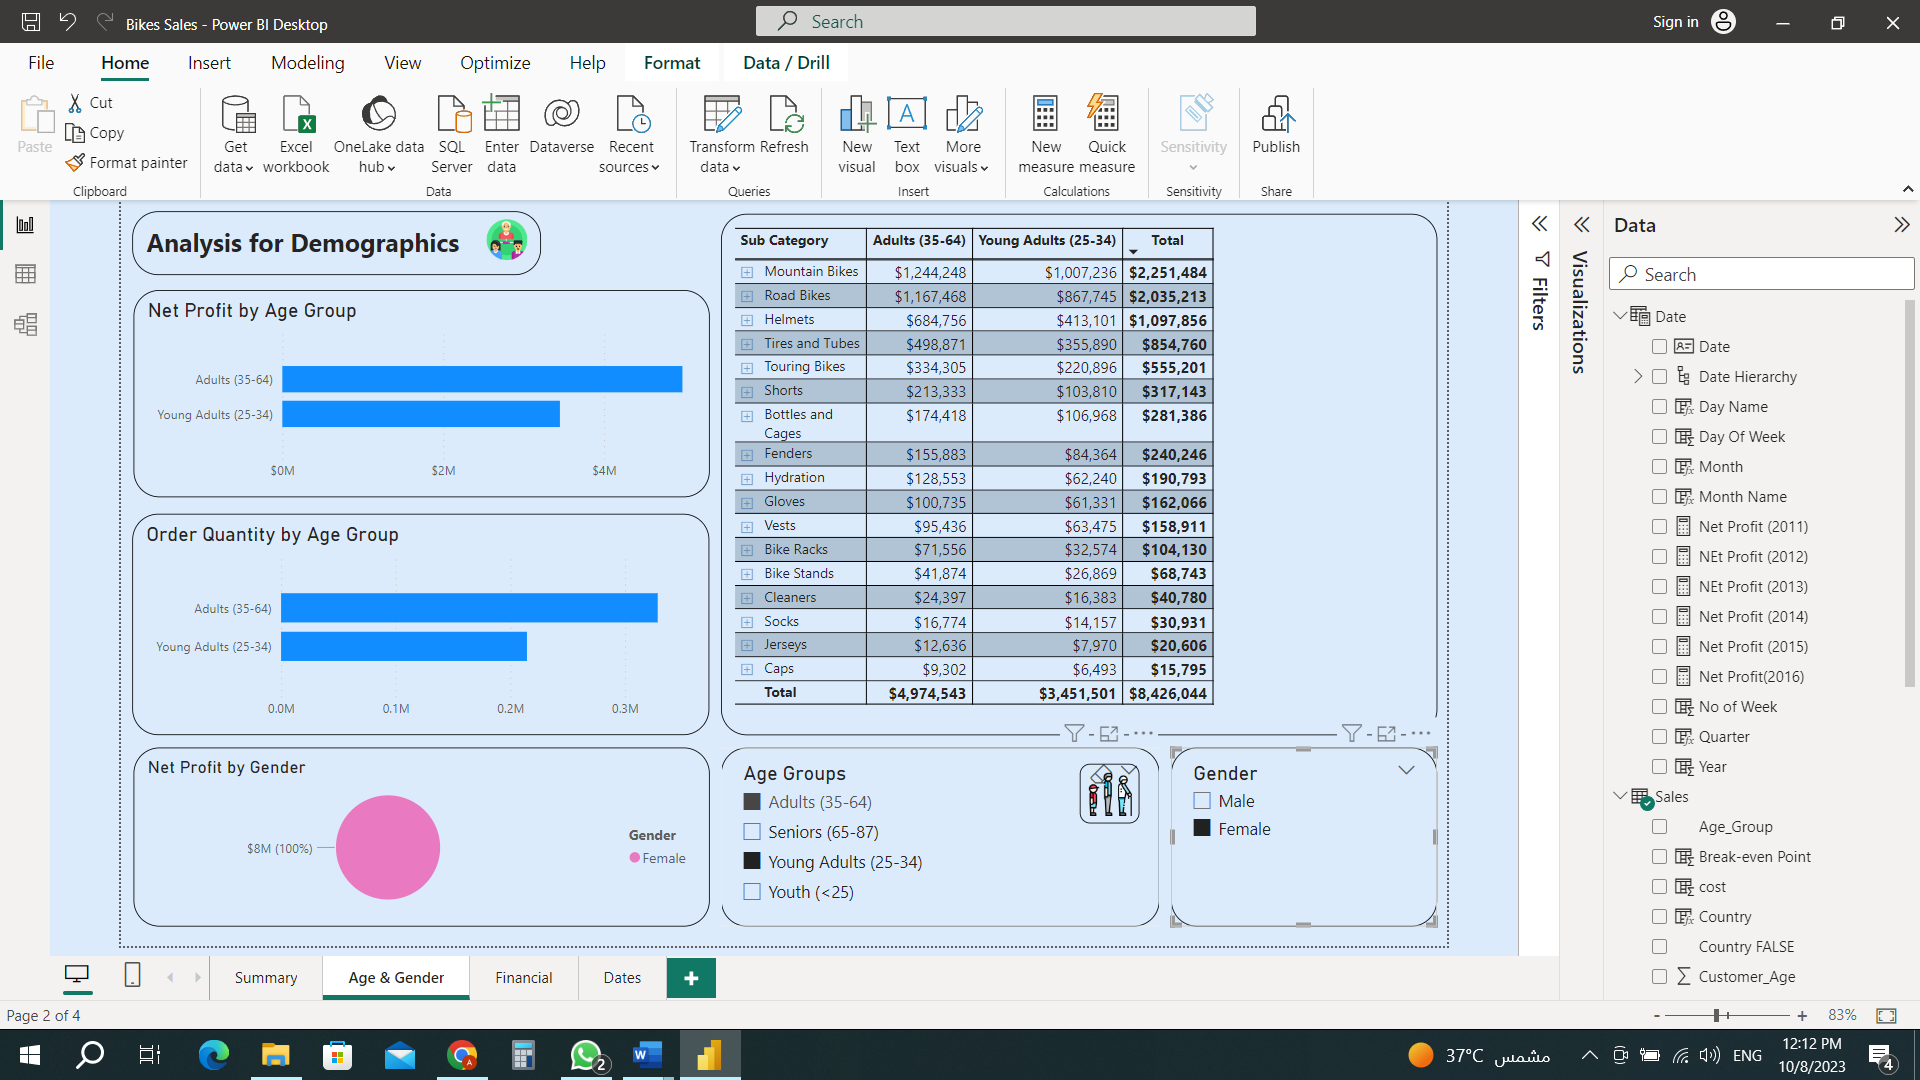

This screenshot's page, from the dashboard's own definition file:
{"tool":"powerbi","page":{"name":"Age & Gender","canvas":[1280,720],"ordinal":1},"visuals":[{"type":"clusteredBarChart","title":"Order Quantity by Age Group","fields":{"Category":["Sales.Age_Group"],"Y":["Sum(Sales.Order_Quantity)"]},"box":[10.9,302.7,557.2,213.5],"z":0},{"type":"slicer","fields":{"Values":["Sales.Customer_Gender"]},"box":[1013.1,528.2,256.9,172.5],"z":6000},{"type":"clusteredBarChart","title":"Net Profit by Age Group","fields":{"Y":["Sum(Sales.Net Profit)"],"Category":["Sales.Age_Group"]},"box":[12.1,86.8,556,200.2],"z":7000},{"type":"pieChart","title":"Net Profit by Gender","fields":{"Category":["Sales.Customer_Gender"],"Y":["Sum(Sales.Net Profit)"]},"box":[707.9,237.6,316,172.5],"z":8000},{"type":"pivotTable","fields":{"Rows":["Sales.Sub_Category","Sales.Product"],"Values":["Sum(Sales.Net Profit)"],"Columns":["Sales.Age_Group"]},"box":[578.9,13.3,691.1,502.9],"z":9000},{"type":"slicer","fields":{"Values":["Sales.Age_Group"]},"box":[578.9,528.2,423.3,172.5],"z":10000},{"type":"image","box":[925,543.9,57.9,57.9],"z":11000},{"type":"image","box":[1186.7,543.9,56.7,57.9],"z":12000},{"type":"textbox","box":[10.9,10.9,394.4,61.5],"z":13000},{"type":"image","box":[347.3,13.3,49.4,49.4],"z":14000},{"type":"pieChart","title":"Net Profit by Gender","fields":{"Category":["Sales.Customer_Gender"],"Y":["Sum(Sales.Net Profit)"]},"box":[12.1,528.2,556,172.5],"z":15000}]}

Visuals, with their boxes on the page's 1280x720 design canvas (x1, y1, x2, y2). These are canvas units, not pixel positions in the 1920x1080 screenshot, which may show the page scaled, cropped or inside an application window:
"Order Quantity by Age Group" clusteredBarChart: [11, 303, 568, 516]
slicer - Sales.Customer_Gender: [1013, 528, 1270, 701]
"Net Profit by Age Group" clusteredBarChart: [12, 87, 568, 287]
"Net Profit by Gender" pieChart: [708, 238, 1024, 410]
pivotTable - Sales.Sub_Category x Sales.Product: [579, 13, 1270, 516]
slicer - Sales.Age_Group: [579, 528, 1002, 701]
image: [925, 544, 983, 602]
image: [1187, 544, 1243, 602]
textbox: [11, 11, 405, 72]
image: [347, 13, 397, 63]
"Net Profit by Gender" pieChart: [12, 528, 568, 701]
